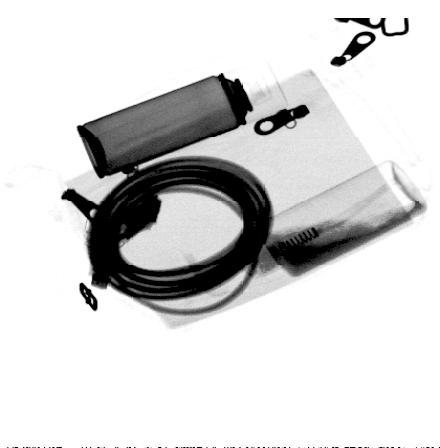Sprayer: (75, 56, 291, 181)
